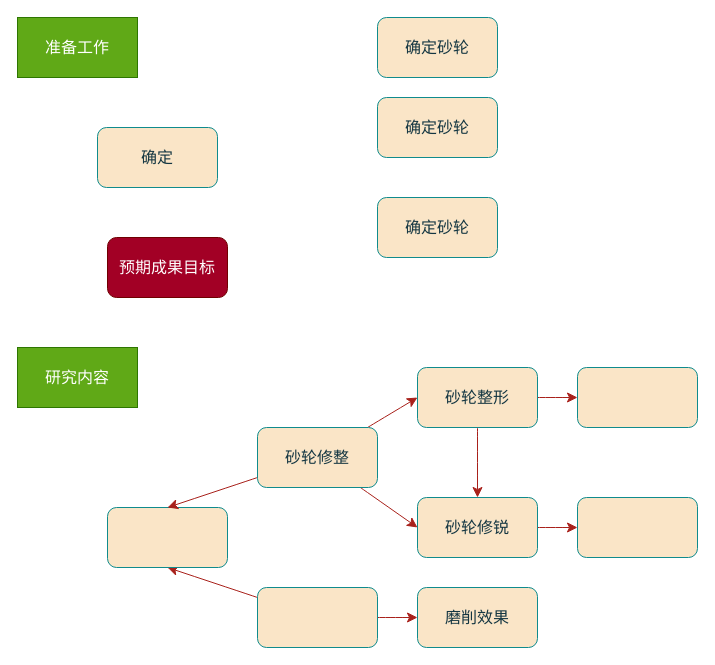
Some shapes in this 715 by 665 pixel diagram are drawn without their labels. The shapes that lost their labels are listed below. From the top down, each one's box as (x1, y1, x2, y2) in pixels, then its label:
(576, 366, 698, 428): 整形方法
(106, 506, 228, 568): 在位修整系统
(576, 496, 698, 558): 修锐方法
(256, 586, 378, 648): 微磨削
